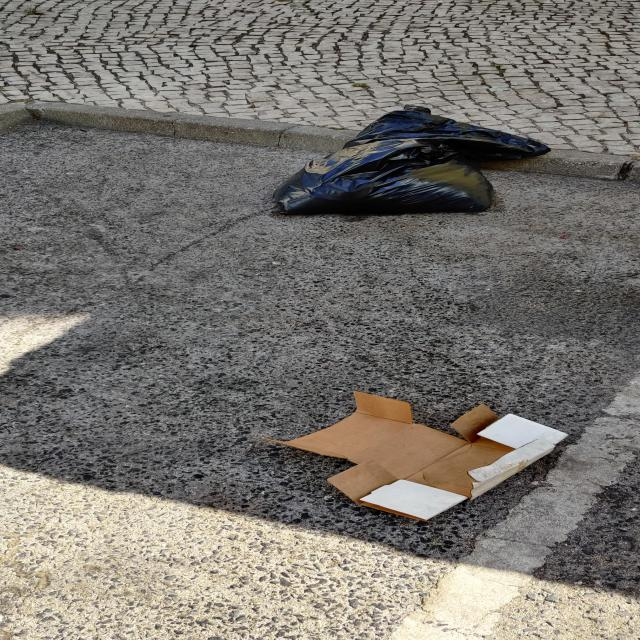Corrugated carton: (261, 391, 569, 521)
Garbage bag: (273, 104, 551, 215)
